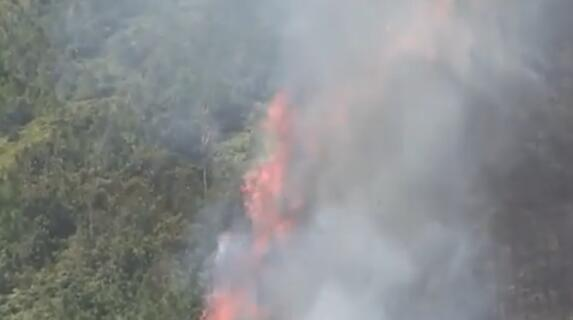fire: (239, 91, 315, 249), (196, 292, 266, 320)
yanwu: (192, 0, 572, 317)
